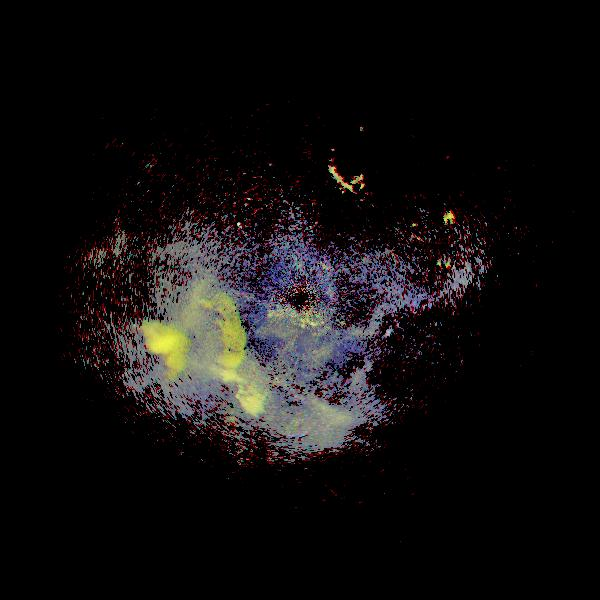roost: (312, 100, 423, 211), (156, 291, 252, 387), (107, 318, 188, 399)
